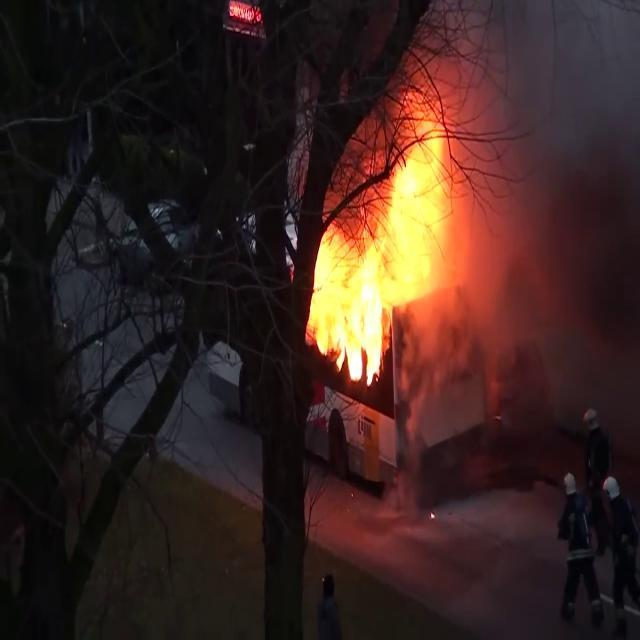Fire: (308, 108, 478, 398)
Smoke: (442, 0, 640, 401)
